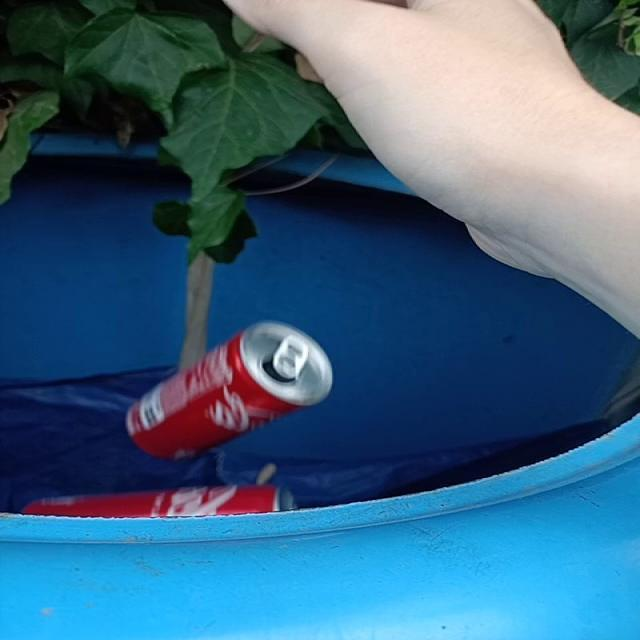Bin: (0, 135, 639, 640)
Metal: (125, 322, 332, 460), (21, 468, 295, 518)
